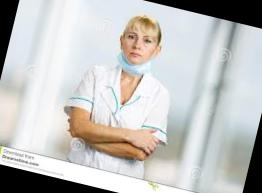mask_weared_incorrect: (117, 30, 158, 74)
